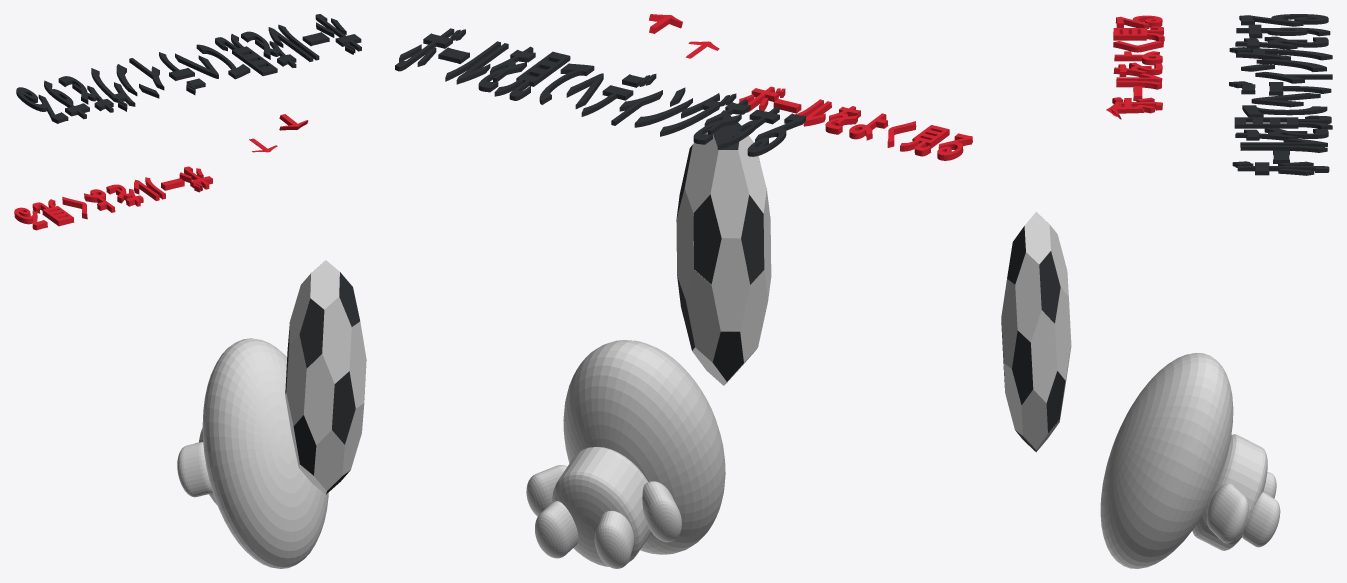
The model's file is tinker.obj.
The picture shows the model from 3 angles, left to right: view 1: azimuth 30°, elevation 25°; view 2: azimuth 150°, elevation 25°; view 3: azimuth 270°, elevation 25°; orthographic projection. The views are drawn at different scales.
Visible parts, largest first — view 1: group_0_16448250, group_0_2829873, group_0_15277357; view 2: group_0_16448250, group_0_2829873, group_0_15277357; view 3: group_0_16448250, group_0_2829873, group_0_15277357.
Boxes of the visible parts, <box> form: group_0_16448250: <box>177,260,366,568</box>; group_0_2829873: <box>16,14,366,494</box>; group_0_15277357: <box>14,114,308,230</box>; group_0_16448250: <box>526,122,771,568</box>; group_0_2829873: <box>395,28,805,381</box>; group_0_15277357: <box>649,14,972,160</box>; group_0_16448250: <box>1001,211,1280,568</box>; group_0_2829873: <box>1001,14,1332,451</box>; group_0_15277357: <box>1106,15,1164,119</box>.
Bounding box in the file's own units: 161 × 174 × 114.
